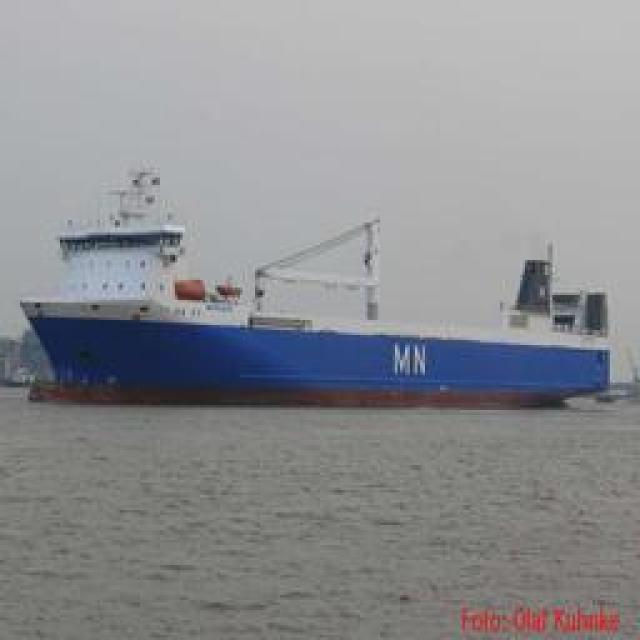CIV_Ship: (9, 222, 599, 410)
